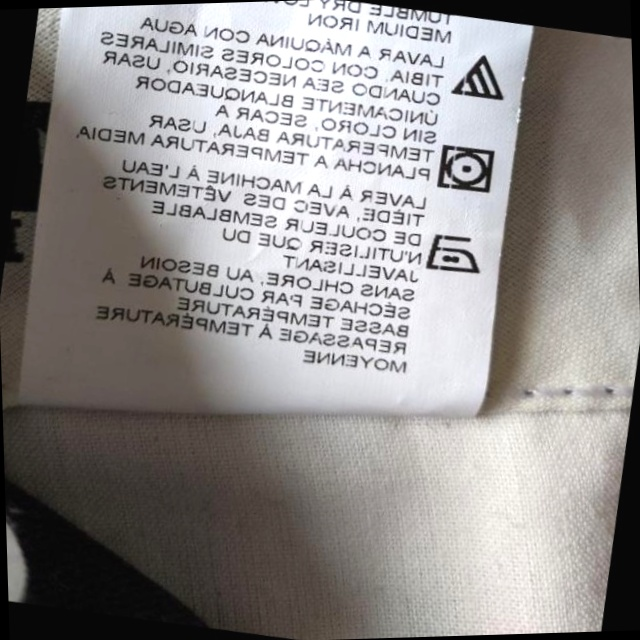iron_medium: (420, 226, 483, 278)
non_chlorine_bleach: (444, 45, 512, 111)
tumble_dry_low: (432, 137, 503, 199)
